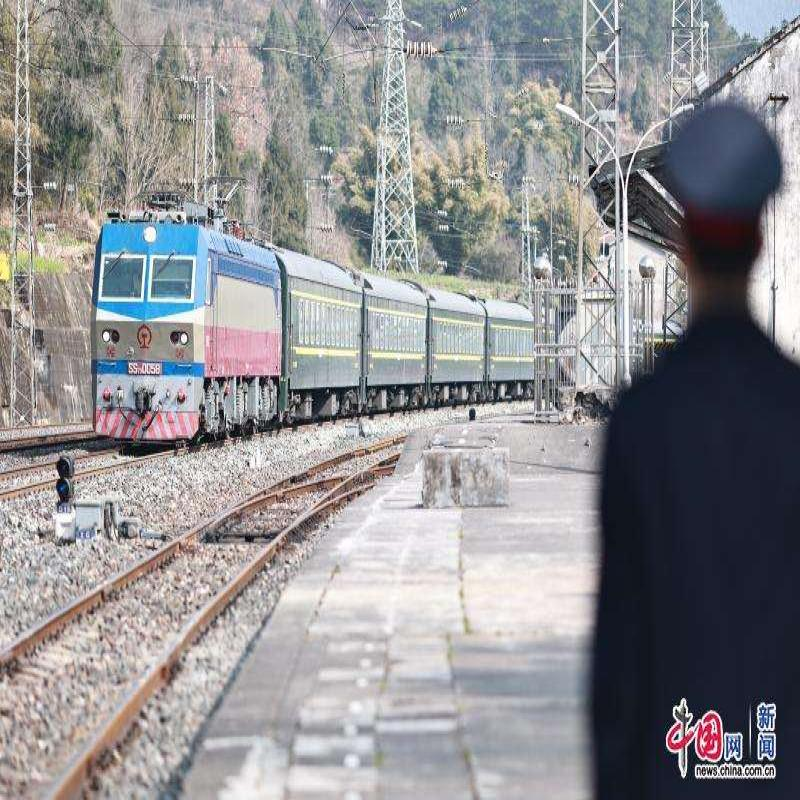train: (86, 199, 491, 463)
